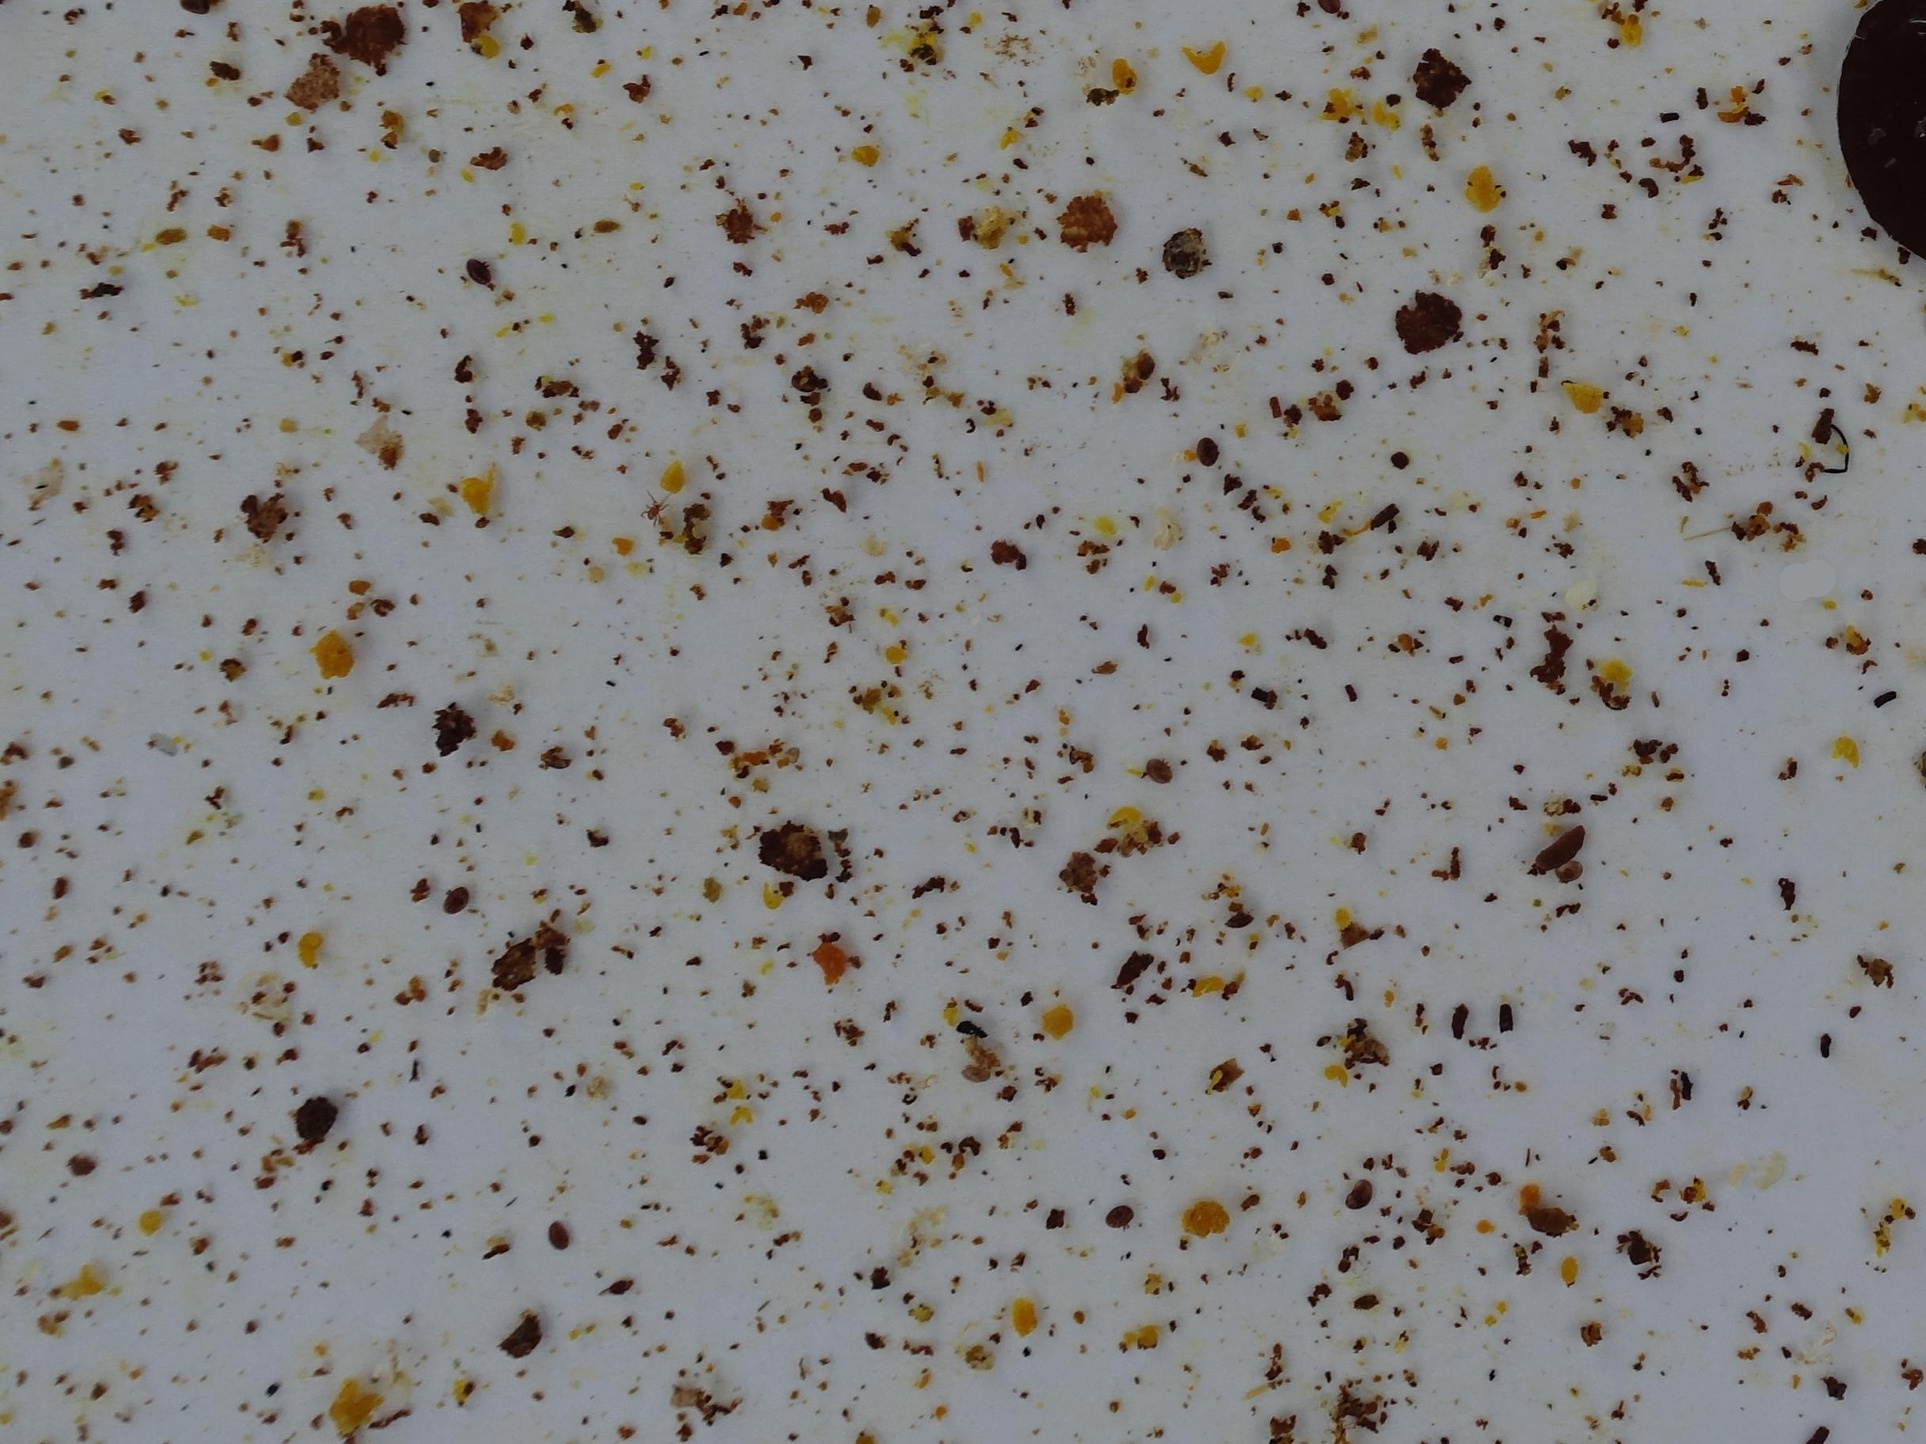Varroa: (1128, 742, 1184, 793), (437, 875, 482, 922), (1103, 1198, 1143, 1241), (1184, 429, 1225, 472), (1341, 1172, 1382, 1215), (456, 249, 497, 291), (543, 1213, 582, 1256), (786, 361, 823, 399), (1550, 852, 1588, 890)
